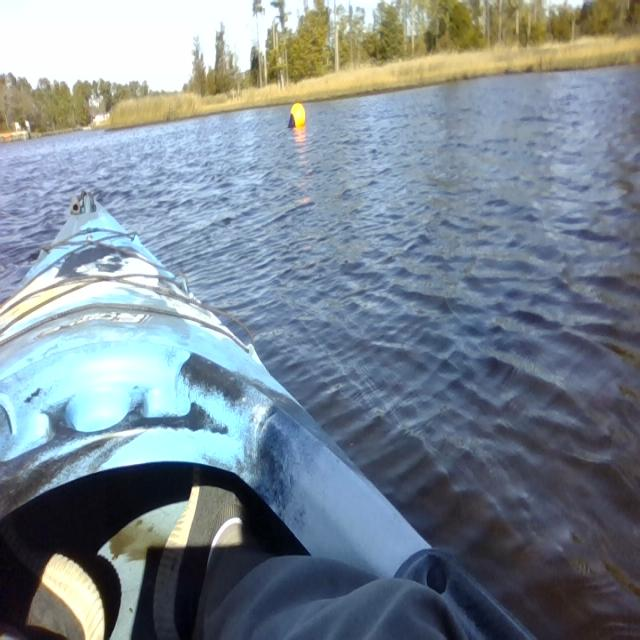Buoy: (283, 98, 309, 138)
